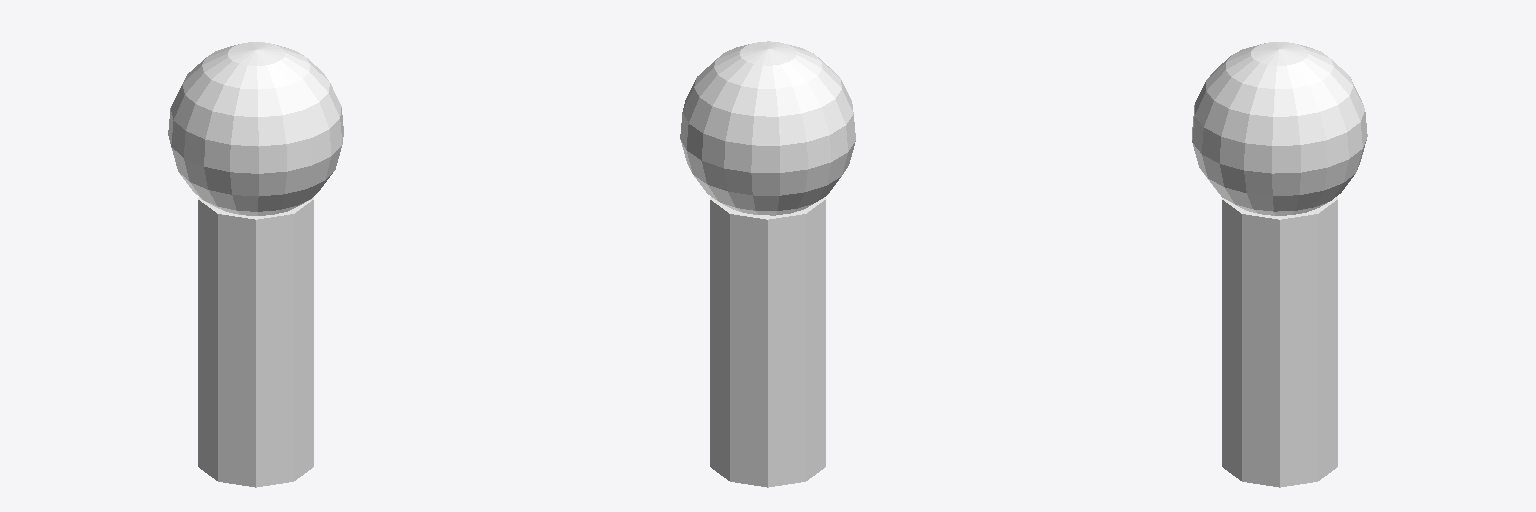
The model's file is turtle.obj.
3 renders of one model, left to right at view 1: azimuth 30°, elevation 25°; view 2: azimuth 150°, elevation 25°; view 3: azimuth 270°, elevation 25°, orthographic.
Parts seen in each view (by area): view 1: Turtle; view 2: Turtle; view 3: Turtle.
Part boxes in pixels (bbox=[...]): Turtle: bbox=[168, 42, 343, 487]; Turtle: bbox=[680, 41, 855, 487]; Turtle: bbox=[1192, 42, 1367, 487].
Bounding box in the file's own units: 23.84 × 61.71 × 23.75.